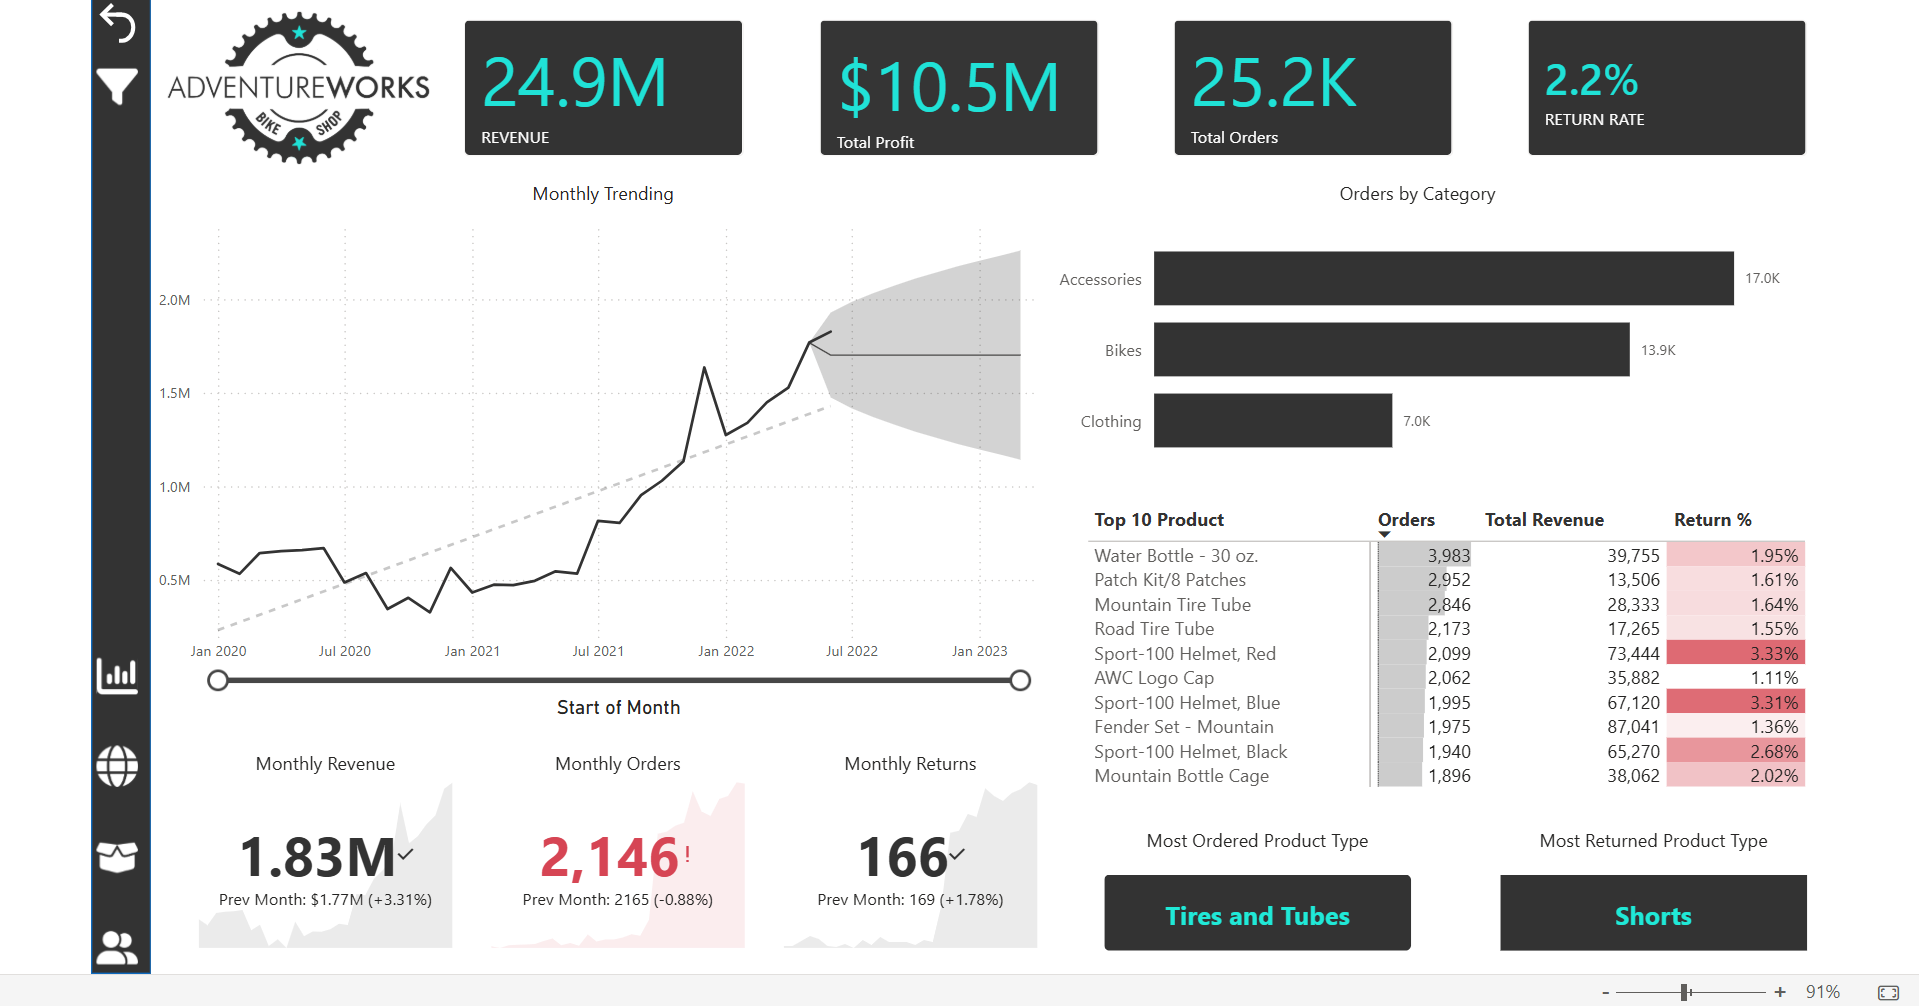

The page's visual inventory and layout, read from the dashboard file:
{"tool":"powerbi","page":{"name":"Exec Dahsboard","canvas":[1280,720],"ordinal":0},"visuals":[{"type":"image","title":"AW Logo","box":[35.7,0,235.7,135.7],"z":0},{"type":"actionButton","box":[0,548.1,44.3,38.6],"z":0,"group":"g1"},{"type":"shape","box":[0,0,44.3,720],"z":1000},{"type":"actionButton","box":[0,681.4,44.3,38.6],"z":1000,"group":"g1"},{"type":"cardVisual","fields":{"Data":["Measure Table.Total Revenue"]},"box":[257.6,0,240,135],"z":2000},{"type":"actionButton","box":[0,481.4,44.3,38.6],"z":2000,"group":"g1"},{"type":"cardVisual","fields":{"Data":["Measure Table.Total Orders"]},"box":[779.4,0,240,135],"z":3000},{"type":"actionButton","box":[0,614.7,44.3,38.6],"z":3000,"group":"g1"},{"type":"cardVisual","fields":{"Data":["Measure Table.Return Rate"]},"box":[1040,0,240,135],"z":4000},{"type":"cardVisual","fields":{"Data":["Measure Table.Total Profit"]},"box":[518.8,0,240,135],"z":5000},{"type":"lineChart","title":"Monthly Trending","fields":{"Category":["Calendar Lookup.Start of Year","Calendar Lookup.Start of Quarter","Calendar Lookup.Start of Month"],"Y":["Measure Table.Total Revenue"]},"box":[44.3,135.7,665.7,400],"z":6000},{"type":"kpi","title":"Monthly Revenue ","fields":{"Goal":["Measure Table.Previous Month Revenue"],"Indicator":["Measure Table.Total Revenue"],"TrendLine":["Calendar Lookup.Date Hierarchy.Start of Month"]},"box":[74.3,555.2,197.1,150],"z":7000},{"type":"kpi","title":"Monthly Returns","fields":{"Goal":["Measure Table.Previous Month Return"],"Indicator":["Measure Table.Total Returns"],"TrendLine":["Calendar Lookup.Date Hierarchy.Start of Month"]},"box":[504.3,555.2,197.1,150],"z":8000},{"type":"kpi","title":"Monthly Orders","fields":{"Goal":["Measure Table.Previous Month Orders"],"Indicator":["Measure Table.Total Orders"],"TrendLine":["Calendar Lookup.Date Hierarchy.Start of Month"]},"box":[289.3,555.2,197.1,150],"z":9000},{"type":"clusteredBarChart","title":"Orders by Category","fields":{"Category":["Product Categories Lookup.CategoryName"],"Y":["Measure Table.Total Orders"]},"box":[702.9,135.7,548.6,224.3],"z":10000},{"type":"pivotTable","fields":{"Rows":["Product Lookup.ProductName"],"Values":["Measure Table.Total Orders","Measure Table.Total Revenue","Measure Table.Return Rate"]},"box":[728.6,370,551.4,225.7],"z":11000},{"type":"cardVisual","title":"Most Ordered Product Type","fields":{"Data":["Min(Product Subcategories Lookup.SubcategoryName)"]},"box":[728.6,611.4,260,108.6],"z":12000},{"type":"cardVisual","title":"Most Returned Product Type","fields":{"Data":["Min(Product Subcategories Lookup.SubcategoryName)"]},"box":[1020,611.4,260,108.6],"z":13000},{"type":"actionButton","box":[0,0,45.7,39.4],"z":14000},{"type":"group","id":"g1","title":"Navigataion Buttons","box":[0,481.4,44.3,238.6],"z":15000},{"type":"actionButton","box":[0,47.1,45.7,38.6],"z":17000}]}

Visuals, with their boxes on the page's 1280x720 design canvas (x1, y1, x2, y2). These are canvas units, not pixel positions in the 1919x1006 screenshot, which may show the page scaled, cropped or inside an application window:
"AW Logo" image: 36/0/271/136
actionButton: 0/548/44/587
shape: 0/0/44/720
actionButton: 0/681/44/720
cardVisual - Measure Table.Total Revenue: 258/0/498/135
actionButton: 0/481/44/520
cardVisual - Measure Table.Total Orders: 779/0/1019/135
actionButton: 0/615/44/653
cardVisual - Measure Table.Return Rate: 1040/0/1280/135
cardVisual - Measure Table.Total Profit: 519/0/759/135
"Monthly Trending" lineChart: 44/136/710/536
"Monthly Revenue " kpi: 74/555/271/705
"Monthly Returns" kpi: 504/555/701/705
"Monthly Orders" kpi: 289/555/486/705
"Orders by Category" clusteredBarChart: 703/136/1252/360
pivotTable - Product Lookup.ProductName x Measure Table.Total Orders: 729/370/1280/596
"Most Ordered Product Type" cardVisual: 729/611/989/720
"Most Returned Product Type" cardVisual: 1020/611/1280/720
actionButton: 0/0/46/39
"Navigataion Buttons" group: 0/481/44/720
actionButton: 0/47/46/86
